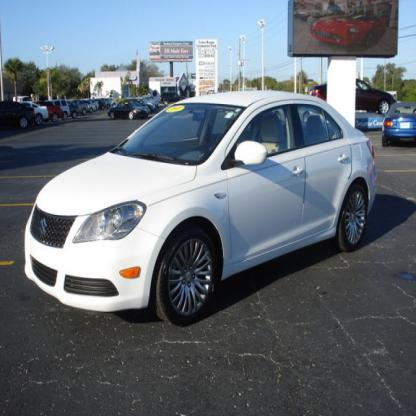Vehicle: (22, 84, 385, 332)
